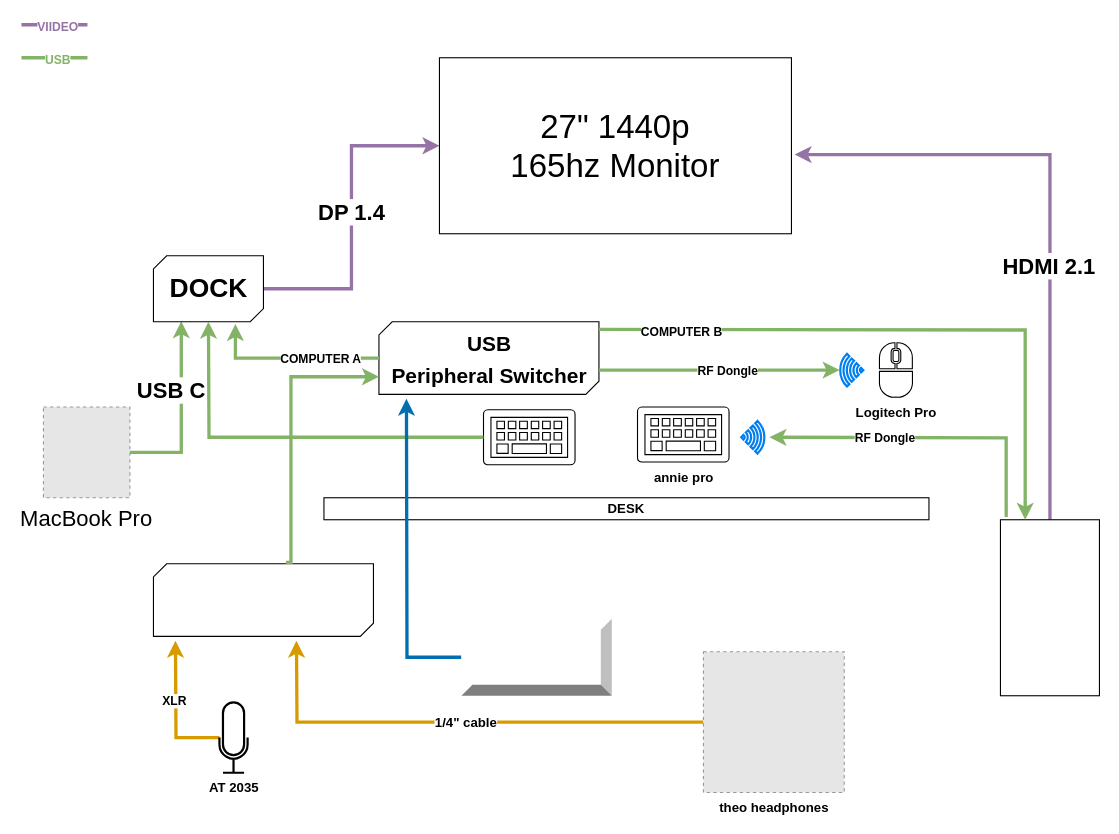
This 1119x834 diagram has some shape labels left out. Grey dashed boxes stand in for pictures. The shapes that lost their labels are listed below. From the top down, each one's centre as x and y in pixels, then its label:
the point at 528,437: moonlander
the point at 262,599: Audio interface
the point at 1049,607: GAMINNG PC
the point at 536,657: Toggle Peripheral (computer A/B)
